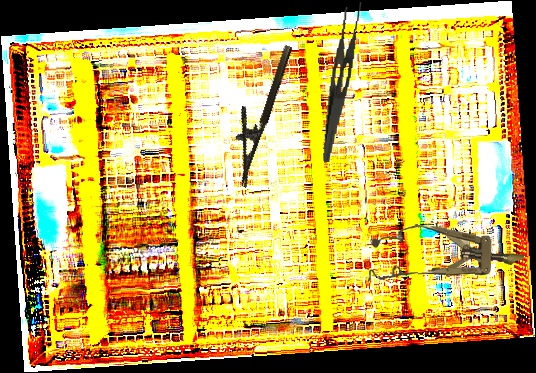Dressing Forceps: (321, 0, 365, 164)
Needle Holder: (217, 38, 295, 188)
Speculum: (367, 222, 526, 288)
